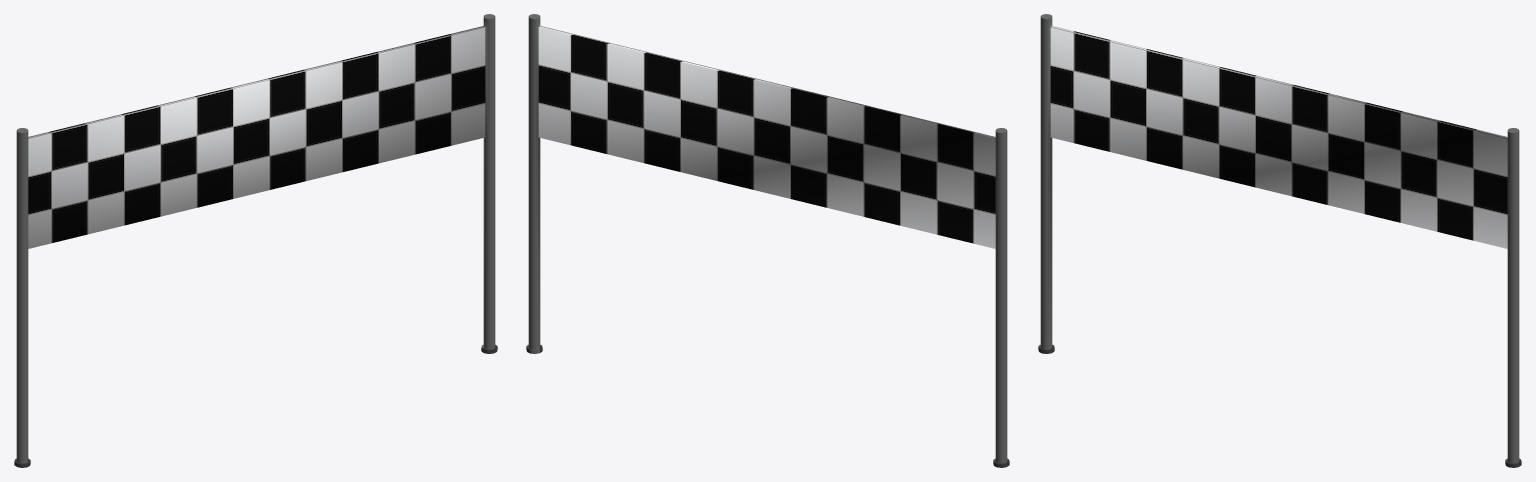
Rendered from obj_meta.fbx.
The picture shows the model from 3 angles, left to right: view 1: azimuth 30°, elevation 25°; view 2: azimuth 150°, elevation 25°; view 3: azimuth 330°, elevation 25°; orthographic projection.
Visible parts, largest first — view 1: obj_bandera; view 2: obj_bandera; view 3: obj_bandera.
Boxes of the visible parts, left/top/right/bottom form: obj_bandera: left=14, top=14, right=497, bottom=467; obj_bandera: left=526, top=14, right=1009, bottom=467; obj_bandera: left=1038, top=14, right=1521, bottom=467.
Bounding box in the file's own units: 11.87 × 7.89 × 0.3538.
3 materials, 1 textured.
